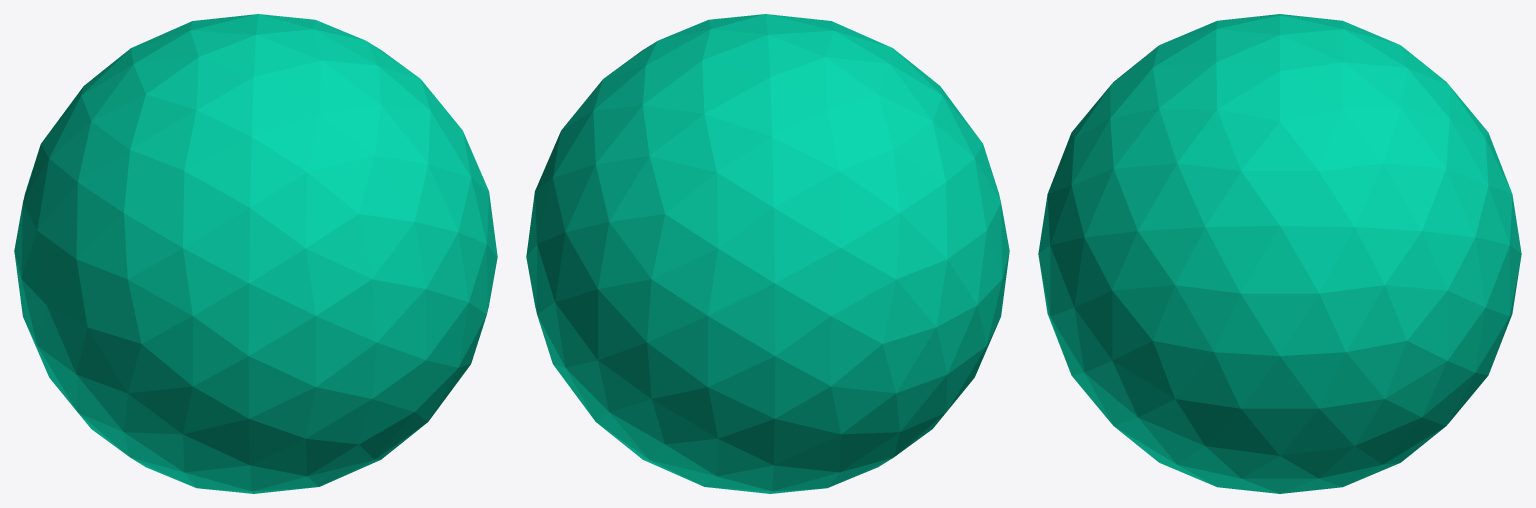
The model's file is wb_orb.obj.
3 views of the same model, side by side, from view 1: azimuth 30°, elevation 25°; view 2: azimuth 150°, elevation 25°; view 3: azimuth 270°, elevation 25° (orthographic).
Bounding box in the file's own units: 2 × 2 × 2.
